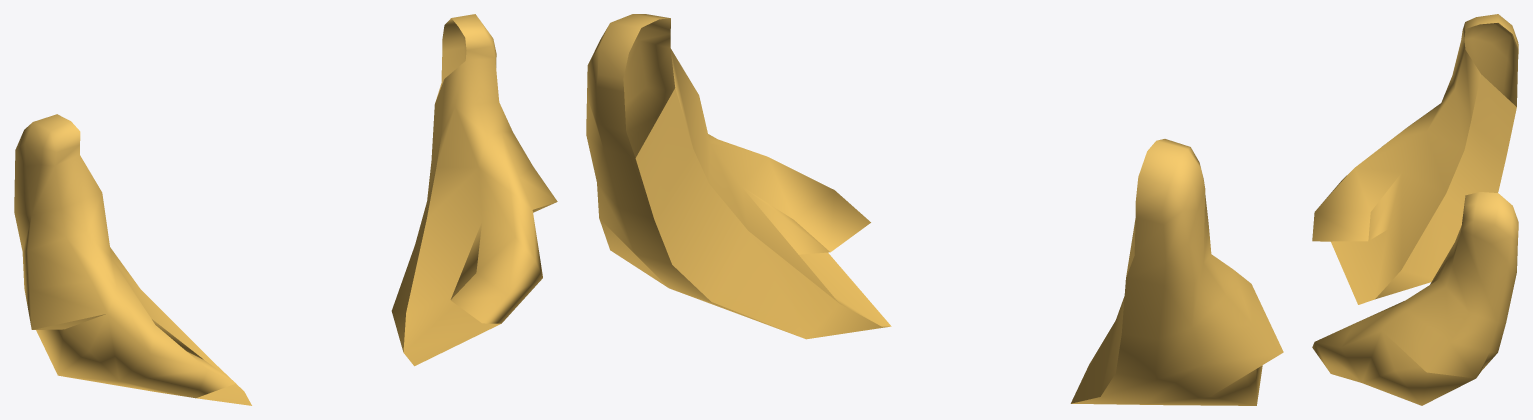
The model's file is Beard_Yellow_9.fbx.
3 views of the same model, side by side, from view 1: azimuth 30°, elevation 25°; view 2: azimuth 150°, elevation 25°; view 3: azimuth 270°, elevation 25° (orthographic). The views are drawn at different scales.
Parts seen in each view (by area): view 1: Beard_Yellow_9; view 2: Beard_Yellow_9; view 3: Beard_Yellow_9.
Part boxes in pixels (x1=…): Beard_Yellow_9: x1=14, y1=14, x2=557, y2=405; Beard_Yellow_9: x1=586, y1=14, x2=1283, y2=405; Beard_Yellow_9: x1=1312, y1=14, x2=1518, y2=405.
Bounding box in the file's own units: 58.92 × 28.07 × 22.62.
